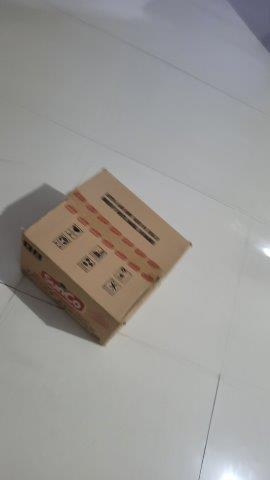kardus: (21, 168, 189, 347)
